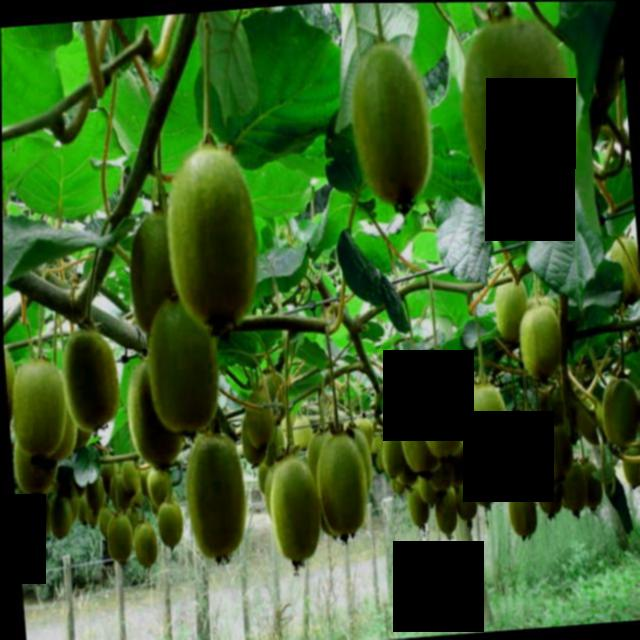kiwi: (457, 10, 583, 222), (162, 142, 266, 338), (349, 36, 438, 212), (143, 290, 223, 433), (183, 429, 252, 561), (125, 351, 192, 469), (10, 350, 72, 460), (314, 429, 372, 542), (63, 322, 122, 433), (268, 457, 325, 565), (463, 379, 514, 473), (421, 364, 468, 461), (399, 384, 446, 478), (518, 301, 566, 385), (600, 372, 640, 450), (494, 270, 533, 348), (514, 418, 556, 490), (246, 387, 278, 450), (508, 482, 539, 538), (381, 419, 409, 480), (105, 512, 135, 564), (158, 496, 186, 546), (134, 516, 159, 570), (48, 491, 74, 535)
